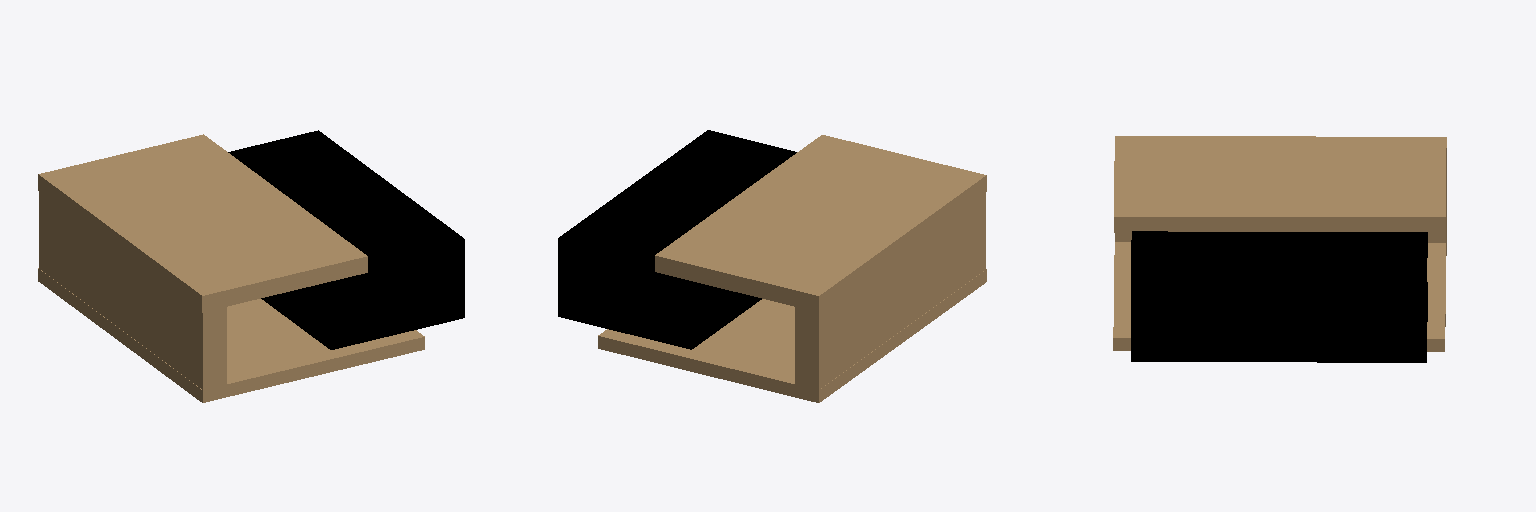
Rendered from table1size2.obj.
3 renders of one model, left to right at view 1: azimuth 30°, elevation 25°; view 2: azimuth 150°, elevation 25°; view 3: azimuth 270°, elevation 25°, orthographic.
Parts seen in each view (by area): view 1: Cube.004_Cube.006; view 2: Cube.004_Cube.006; view 3: Cube.004_Cube.006.
Part boxes in pixels (x1,y1,x2,y2): Cube.004_Cube.006: (38, 130, 464, 402); Cube.004_Cube.006: (558, 130, 986, 402); Cube.004_Cube.006: (1113, 136, 1446, 362).
Size of the model in its own units: 1.37 by 0.5146 by 1.45.